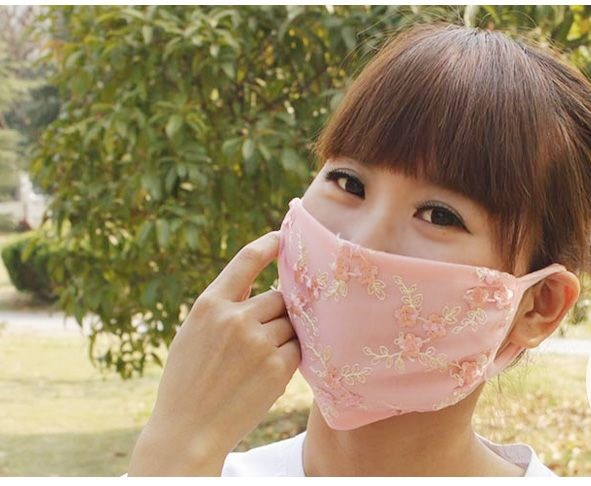face_mask: (279, 100, 521, 386)
